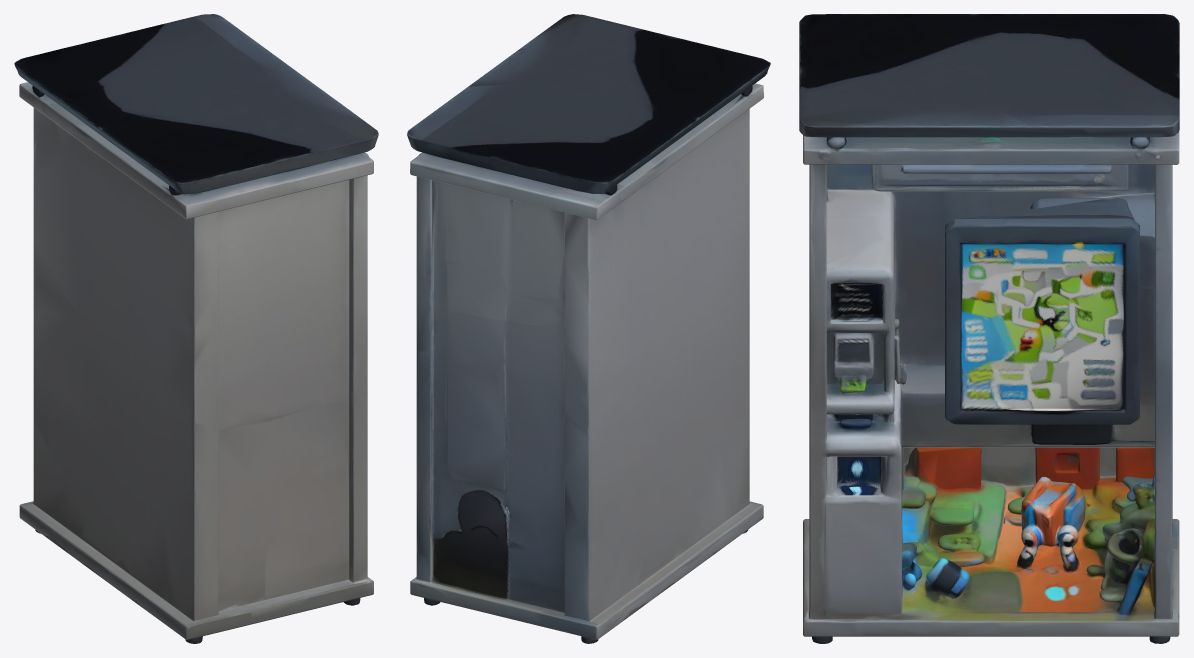
The model's file is plaza-info-kiosk.glb.
3 renders of one model, left to right at view 1: azimuth 30°, elevation 25°; view 2: azimuth 150°, elevation 25°; view 3: azimuth 270°, elevation 25°, orthographic. The views are drawn at different scales.
Parts seen in each view (by area): view 1: tripo_node_8e94288f-22a0-437b-bf51-68b3dbf5b6aa; view 2: tripo_node_8e94288f-22a0-437b-bf51-68b3dbf5b6aa; view 3: tripo_node_8e94288f-22a0-437b-bf51-68b3dbf5b6aa.
Part boxes in pixels (bbox=[...]): tripo_node_8e94288f-22a0-437b-bf51-68b3dbf5b6aa: bbox=[14, 14, 378, 643]; tripo_node_8e94288f-22a0-437b-bf51-68b3dbf5b6aa: bbox=[407, 14, 770, 643]; tripo_node_8e94288f-22a0-437b-bf51-68b3dbf5b6aa: bbox=[799, 14, 1179, 643].
Bounding box in the file's own units: 1.15 × 2.5 × 1.64.
1 material, 1 textured.
